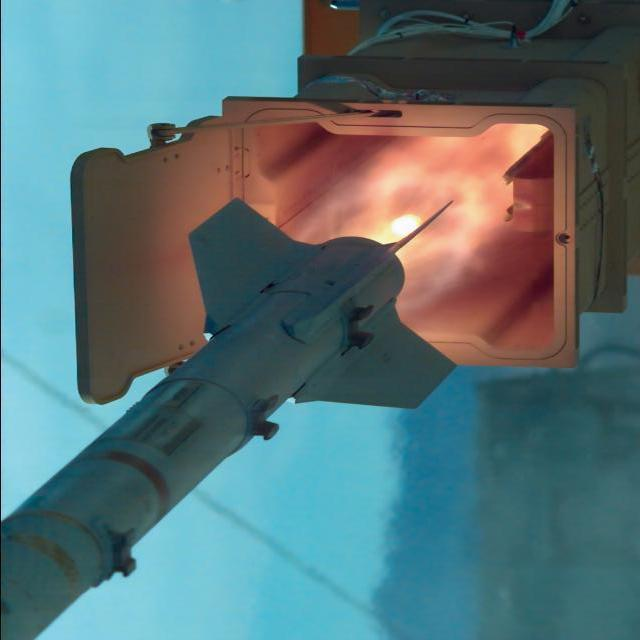missile: (14, 201, 460, 640)
